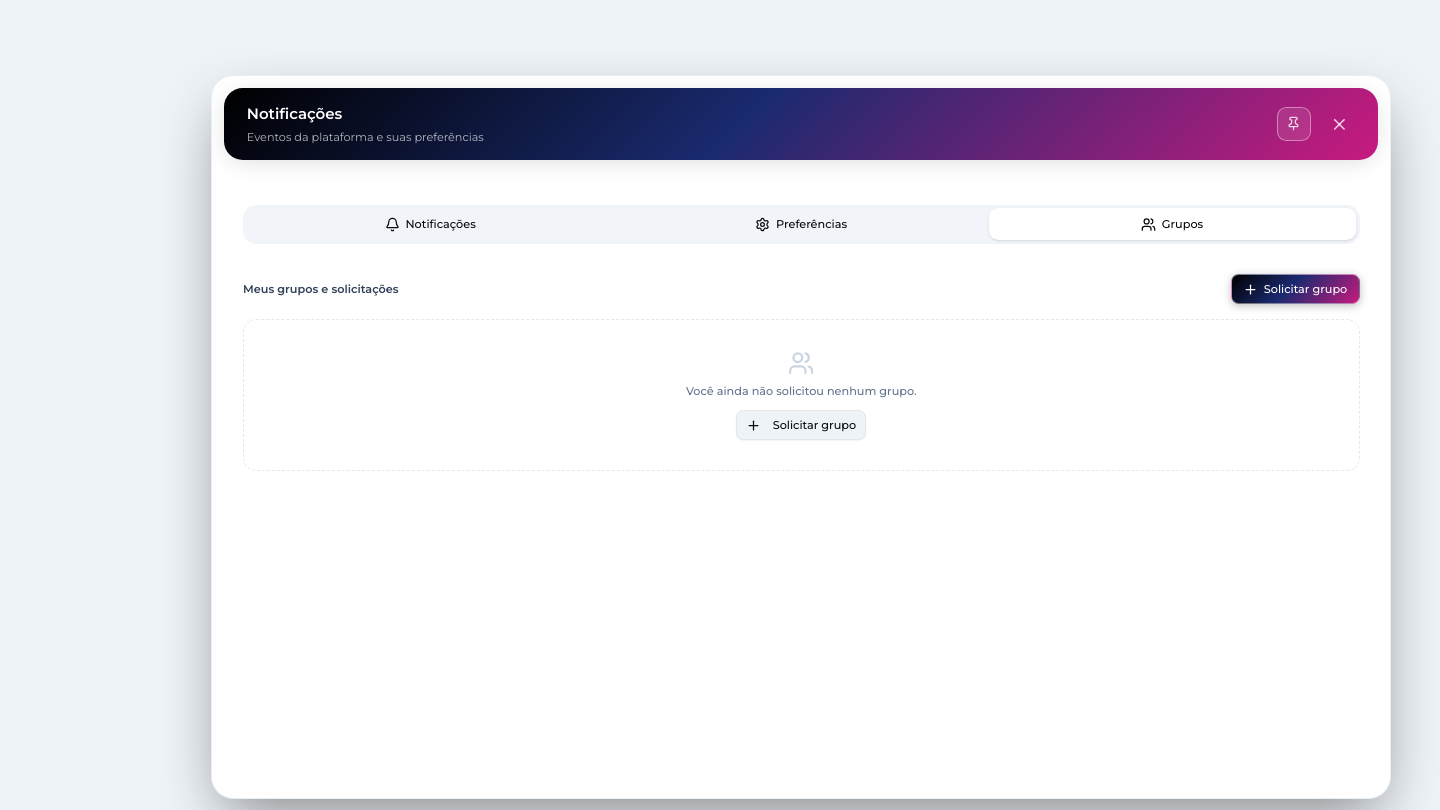
Test case: NotificationsPanel — Grupos (ciclo de aprovação) › 8. abrir 'Solicitar grupo' exige finalidade e chama requestNotificationGroup
Later steps or results of the test are not shown.
Click the button "Solicitar grupo" in the row of "Meus grupos e solicitações": [1295, 289] box [1231,274,1360,304]
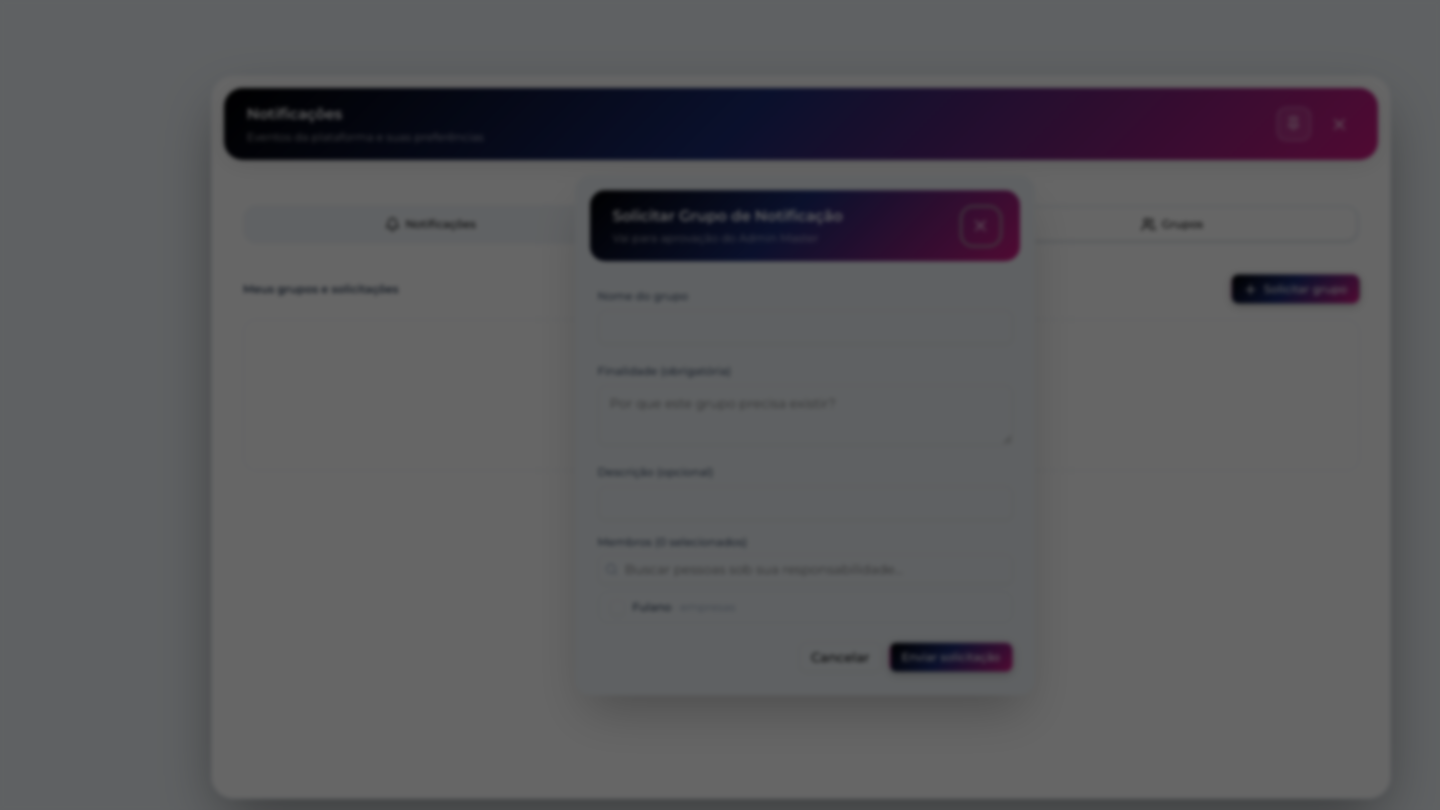
Expected: the text "Fulano" is shown, [632,600,672,614]
